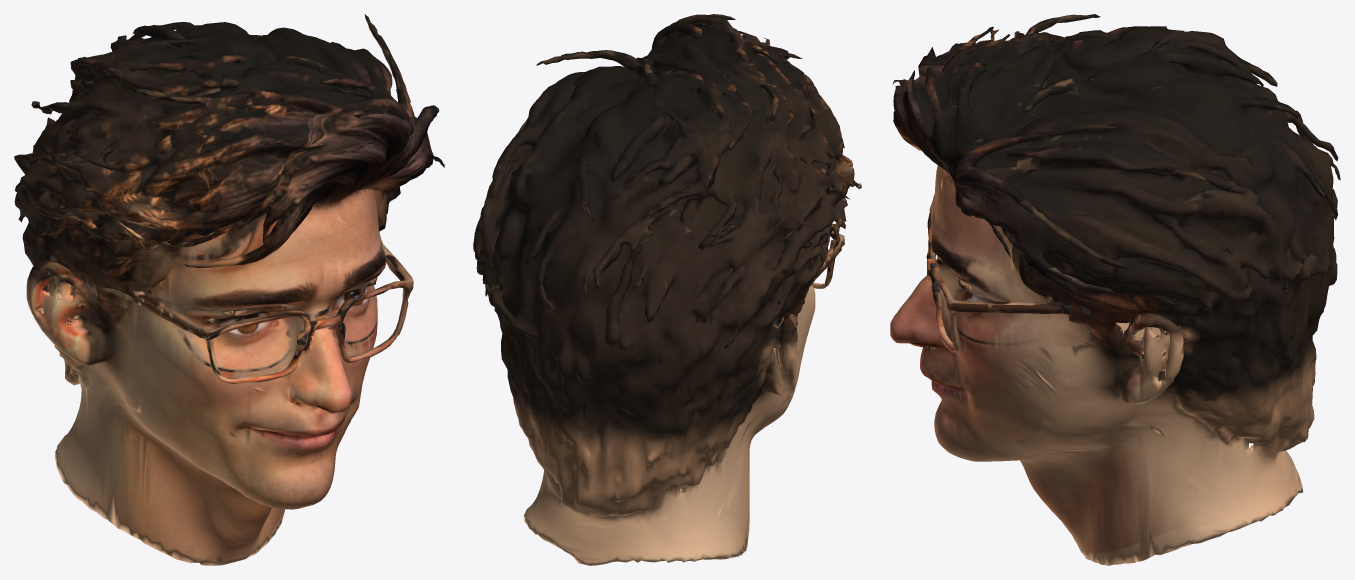
Rendered from head-detailed.glb.
The picture shows the model from 3 angles, left to right: view 1: azimuth 30°, elevation 25°; view 2: azimuth 150°, elevation 25°; view 3: azimuth 270°, elevation 25°; orthographic projection. The views are drawn at different scales.
Parts seen in each view (by area): view 1: PortraitHead_NormalSample; view 2: PortraitHead_NormalSample; view 3: PortraitHead_NormalSample.
Boxes of the visible parts, bbox=[...] form: PortraitHead_NormalSample: bbox=[14, 14, 444, 565]; PortraitHead_NormalSample: bbox=[473, 14, 861, 565]; PortraitHead_NormalSample: bbox=[890, 14, 1340, 565].
Bounding box in the file's own units: 1.47 × 1.96 × 1.58.
Materials: 1 (1 with a texture image).
